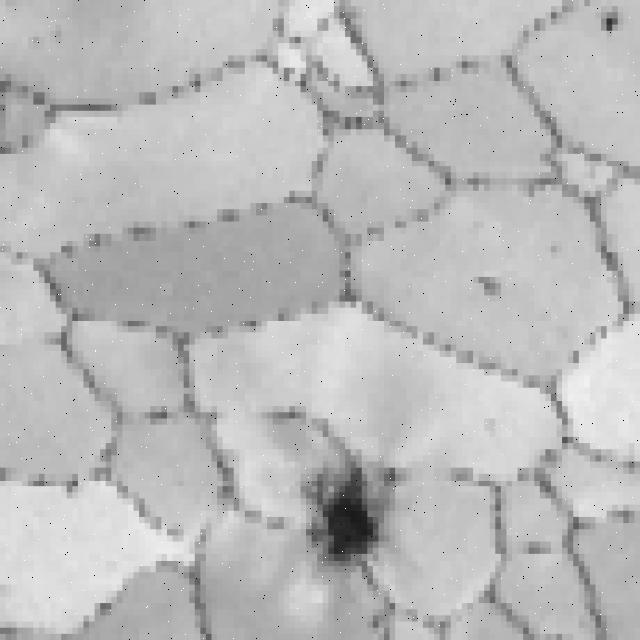good_void: (294, 455, 401, 567), (598, 8, 627, 36), (476, 272, 501, 298)
